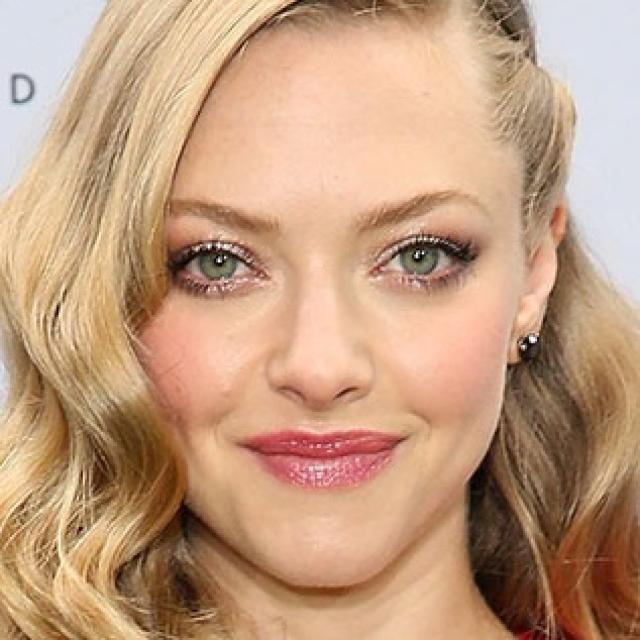Normal: (104, 17, 530, 592)
